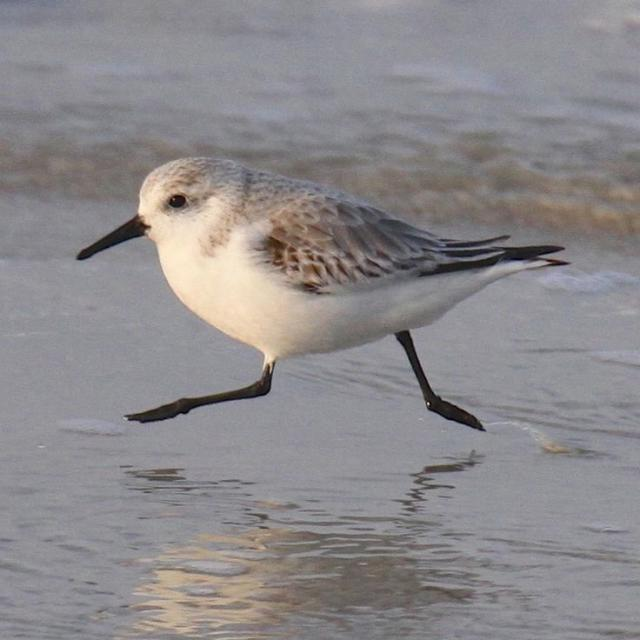sandpiper: (77, 157, 565, 430)
